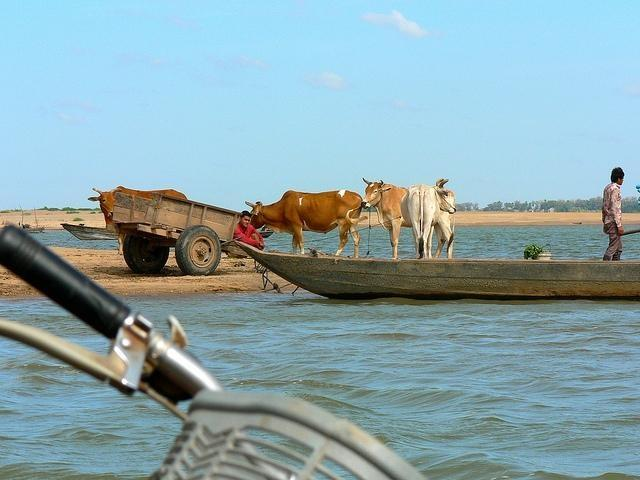bicycle: (0, 221, 431, 475)
